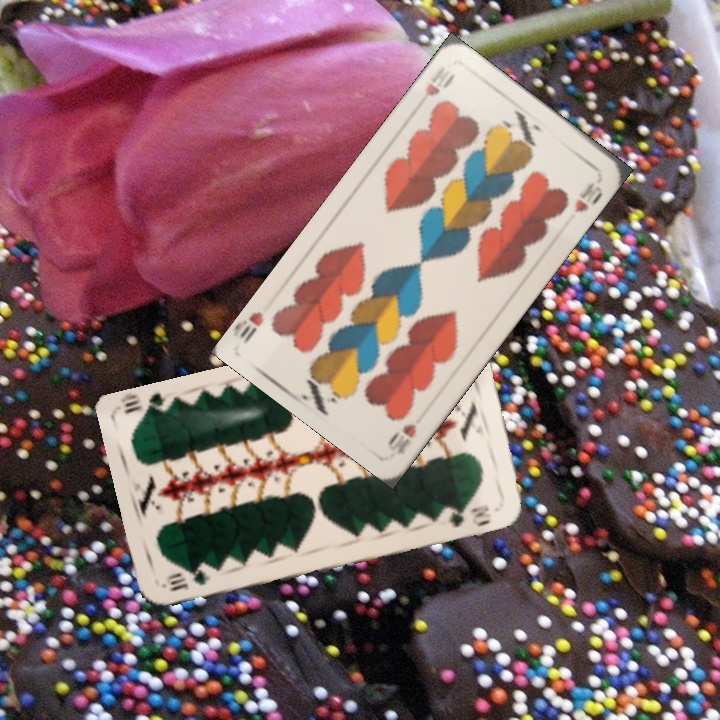G10: (160, 567, 213, 594)
H10: (411, 62, 458, 113), (383, 420, 419, 459)
